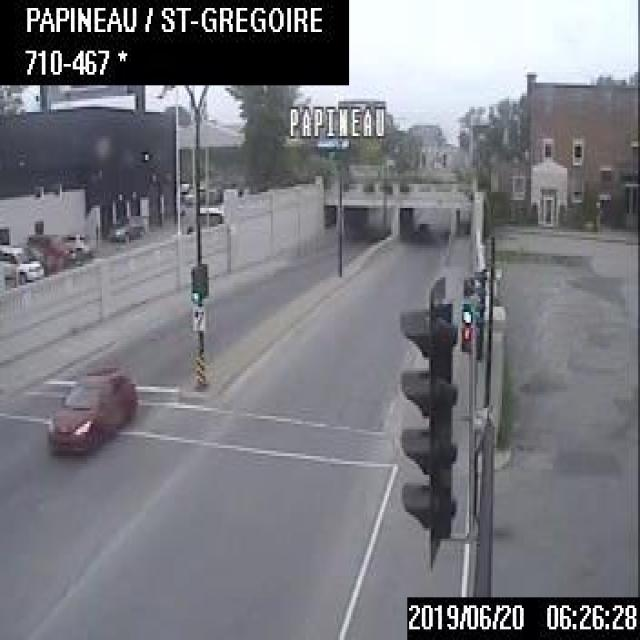vehicle: (44, 365, 134, 456), (0, 241, 42, 279), (29, 232, 71, 269), (109, 210, 144, 240), (416, 218, 429, 234)
